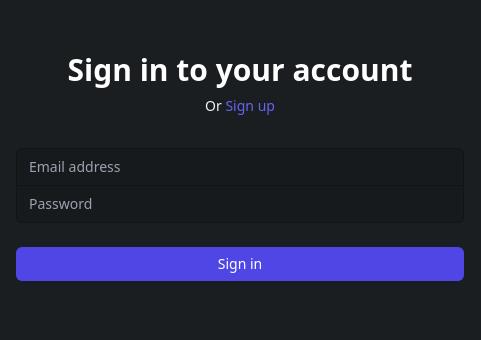
Test: Login › shows error when password is empty
This screenshot has width=481, height=340.
Type "foobar" into the field with test id "email-address".
click(240, 166); type("foobar")  # box [16,148,464,186]
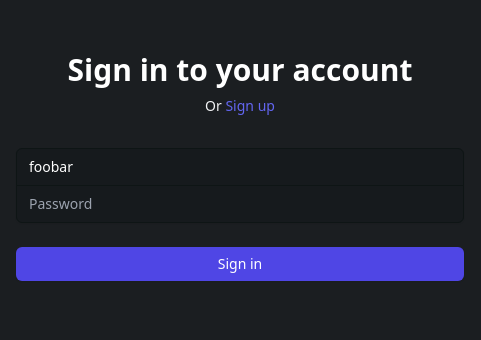
Click the button.
click(240, 264)  # box [16,246,464,280]
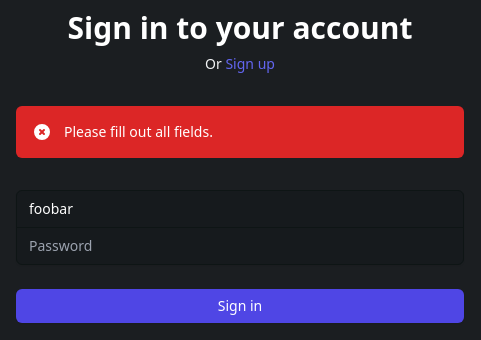
Expected: the heading "Please fill out all fields." is shown, [64,122,213,142]
